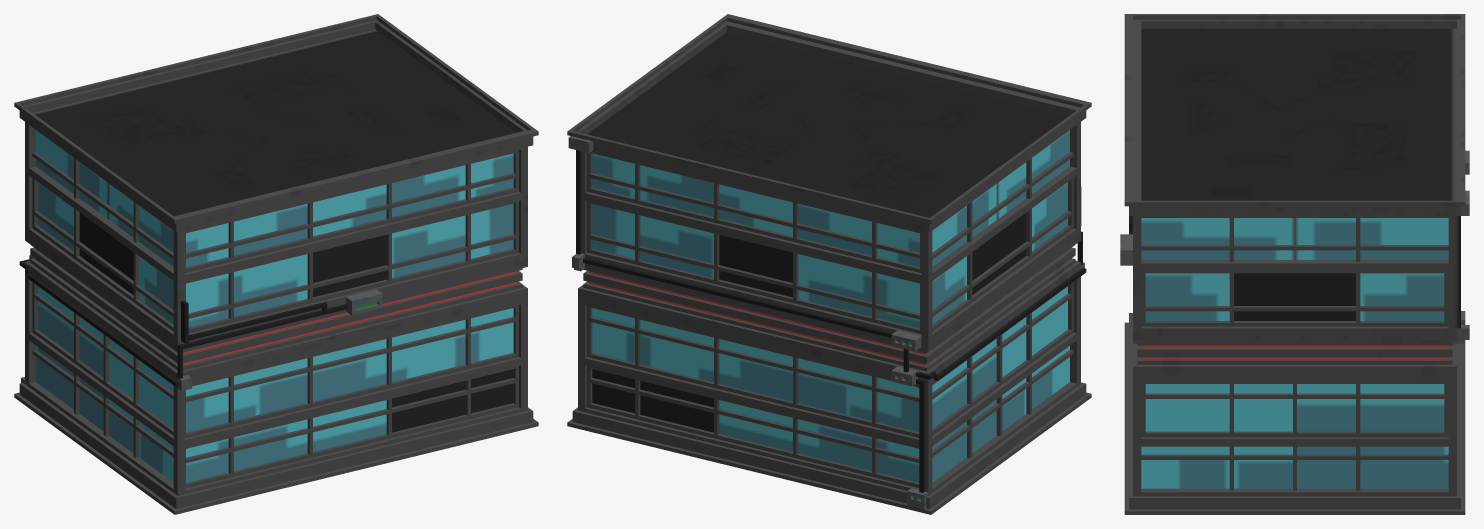
File: officeBuilding_01.fbx
3 renders of one model, left to right at view 1: azimuth 30°, elevation 25°; view 2: azimuth 150°, elevation 25°; view 3: azimuth 270°, elevation 25°, orthographic. The views are drawn at different scales.
Visible parts, largest first — view 1: officeBuilding_01; view 2: officeBuilding_01; view 3: officeBuilding_01.
Boxes of the visible parts, bbox=[...] form: officeBuilding_01: bbox=[14, 14, 538, 514]; officeBuilding_01: bbox=[567, 14, 1091, 514]; officeBuilding_01: bbox=[1120, 14, 1469, 514].
Bounding box in the file's own units: 106 × 82 × 83.
1 material, 1 textured.
